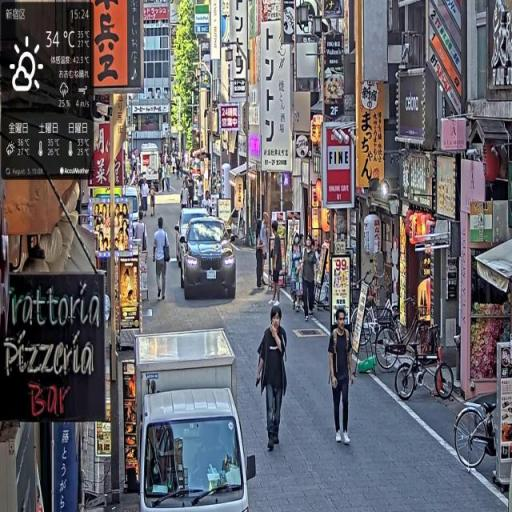person: (257, 307, 287, 452), (329, 308, 355, 446), (302, 235, 318, 322), (154, 218, 169, 301), (270, 221, 283, 307)
